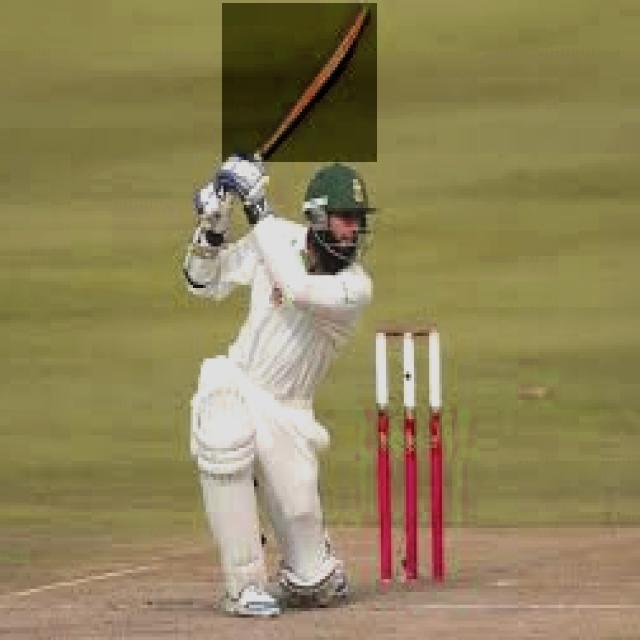bat: (224, 1, 409, 168)
